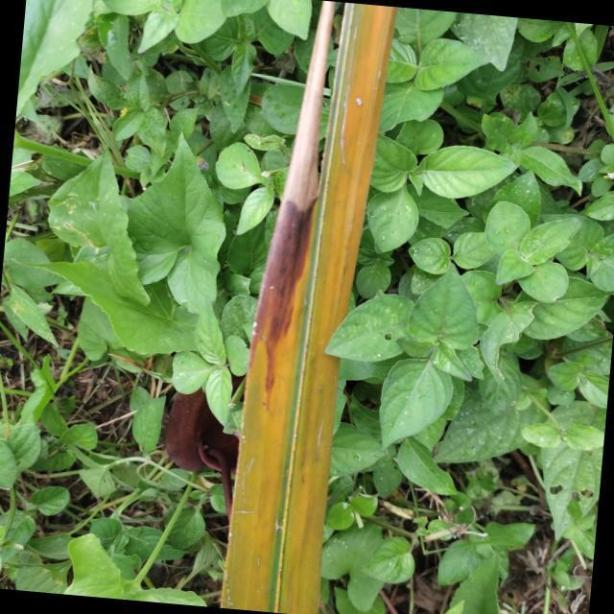Megnesium: (222, 0, 398, 614)
